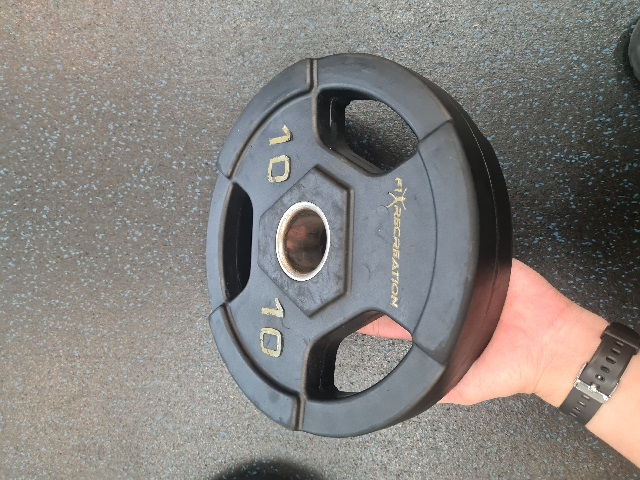weights: (203, 52, 514, 439)
